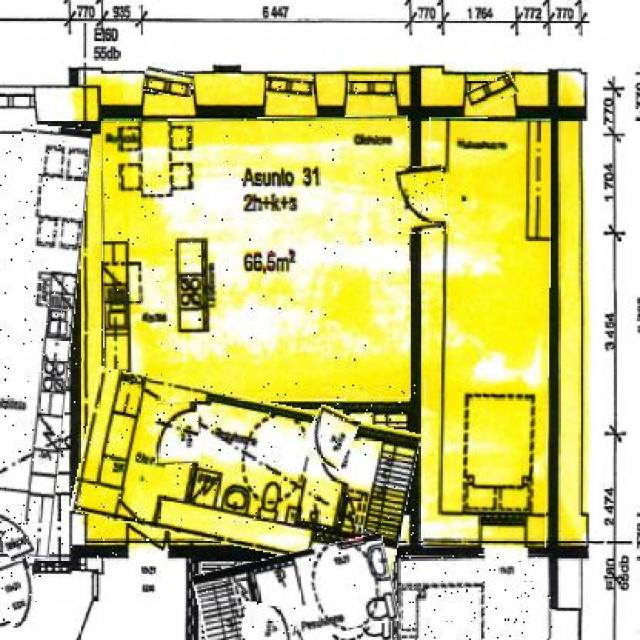door: (397, 166, 449, 234), (303, 408, 355, 466), (0, 559, 42, 626), (156, 403, 198, 465), (243, 603, 297, 640), (0, 500, 31, 558)
window: (466, 77, 519, 108), (144, 70, 193, 96), (268, 77, 314, 98), (348, 82, 392, 100)
zone: (102, 117, 410, 401), (76, 382, 416, 562), (425, 118, 549, 548), (0, 124, 82, 556), (195, 541, 396, 640), (400, 554, 552, 640)
